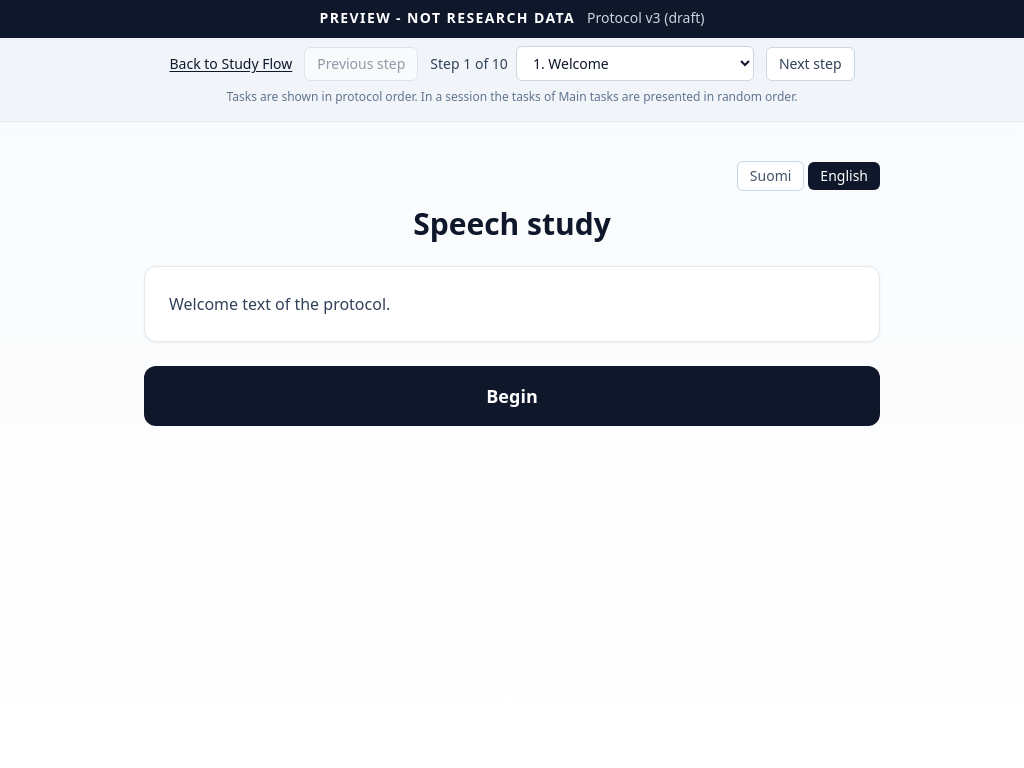
Test: PreviewFlow › shows a follow-up as an optional turn when the task makes follow-ups optional
This screenshot has width=1024, height=768.
Select "7. Task 1, follow-up 1" in the dropdown named "Go to step" at [635, 64], box [516,46,754,81]
(page scrolled)
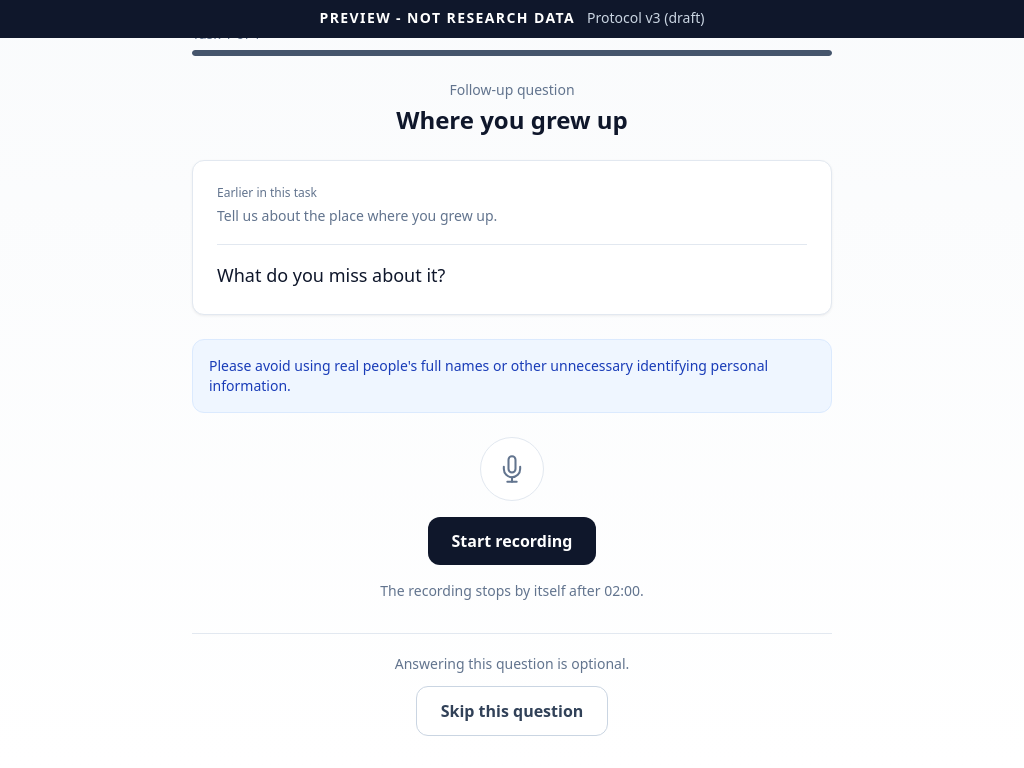
Now the text with test id "task-current-prompt" reads "What do you miss about it?", box [217,263,445,287]
Now the text with test id "task-original-prompt" reads "Tell us about the place where you grew up.", box [217,206,497,225]
Click the button "Skip this question" at [512, 711], box [416,686,608,736]
(page scrolled)
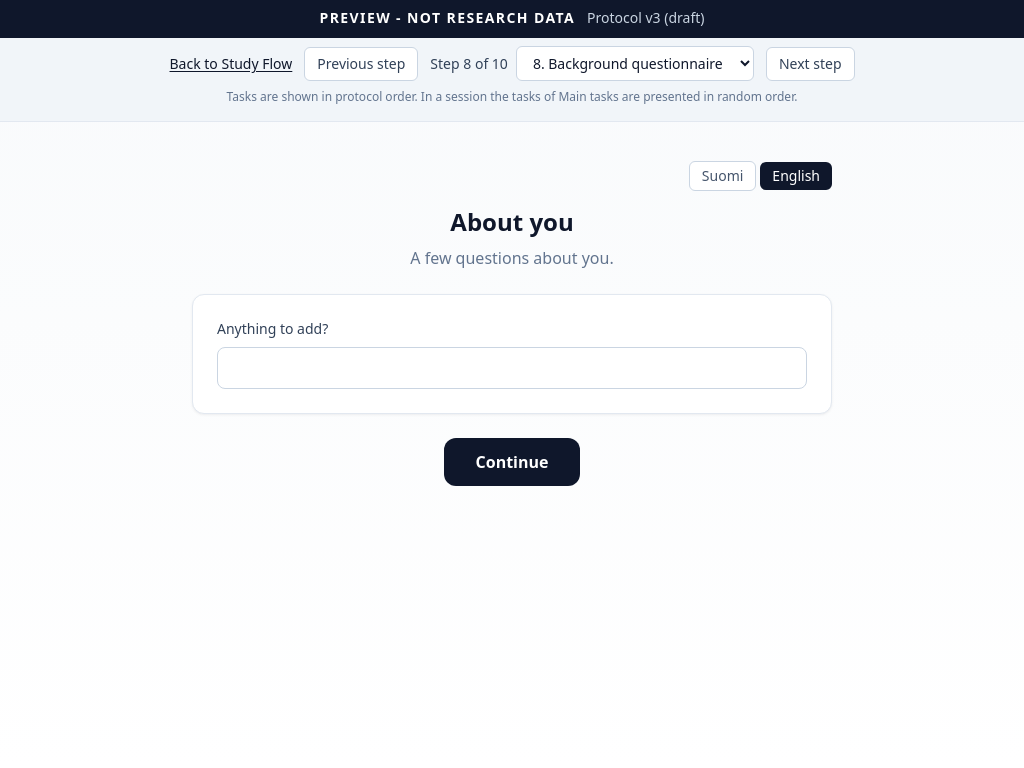
Now the heading "About you" is shown, box [450,205,574,238]
